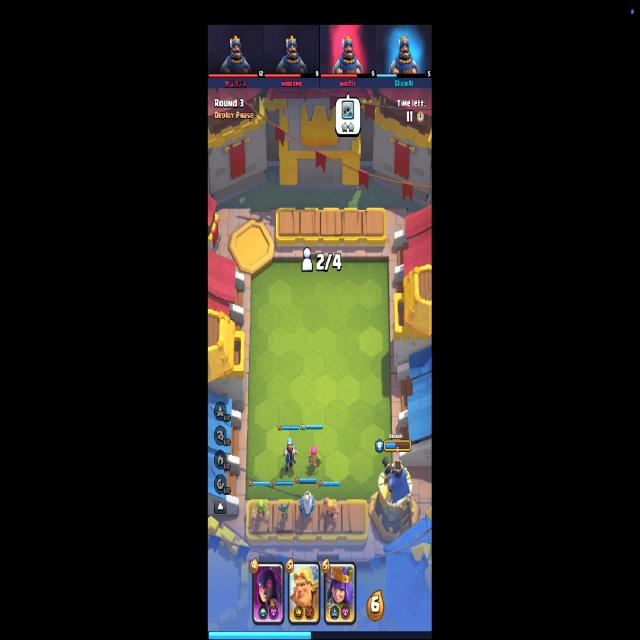archer: (308, 446, 322, 470)
barbarian: (317, 498, 340, 524)
card_archer_queen: (323, 560, 356, 626)
card_golden_knight: (288, 560, 320, 626)
card_witch: (252, 560, 285, 624)
dart_goblin: (276, 500, 290, 520)
goblin: (253, 499, 269, 520)
royal_ghost: (298, 491, 316, 518)
wizard: (283, 438, 298, 472)
